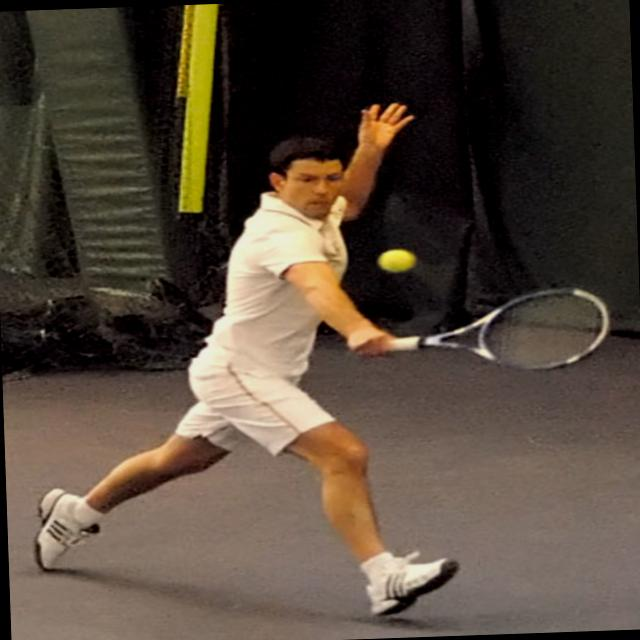Tennis Ball: (379, 248, 415, 274)
